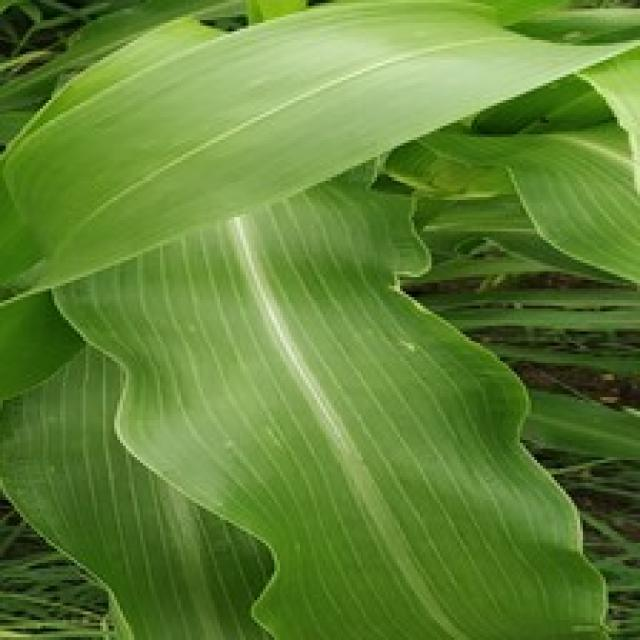Corn: (0, 0, 637, 637), (0, 0, 637, 303)
